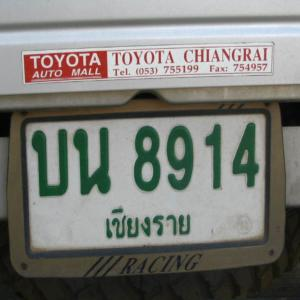Vehicle-registration-plate: (13, 101, 287, 281)
